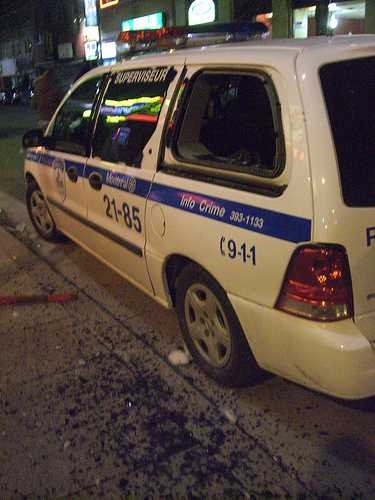Police Car: (19, 37, 375, 406)
